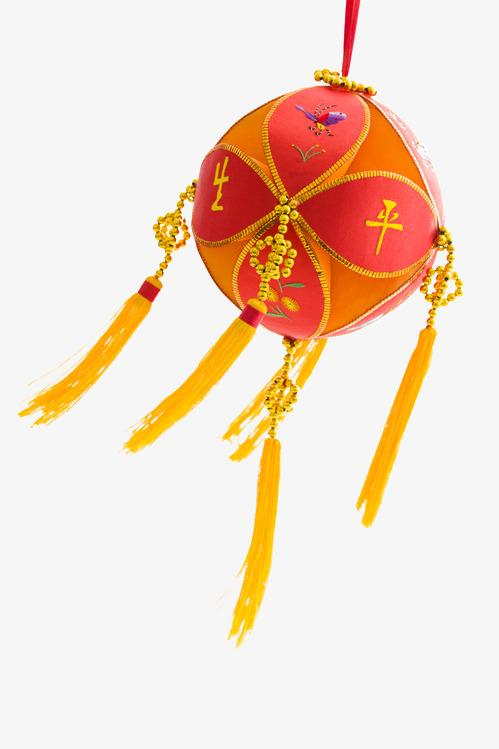xiuqiu: (190, 86, 446, 343)
